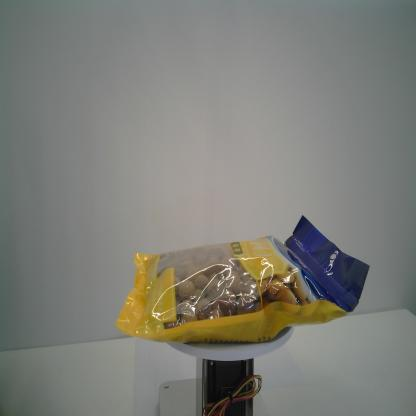Dried Food: (115, 214, 370, 345)
